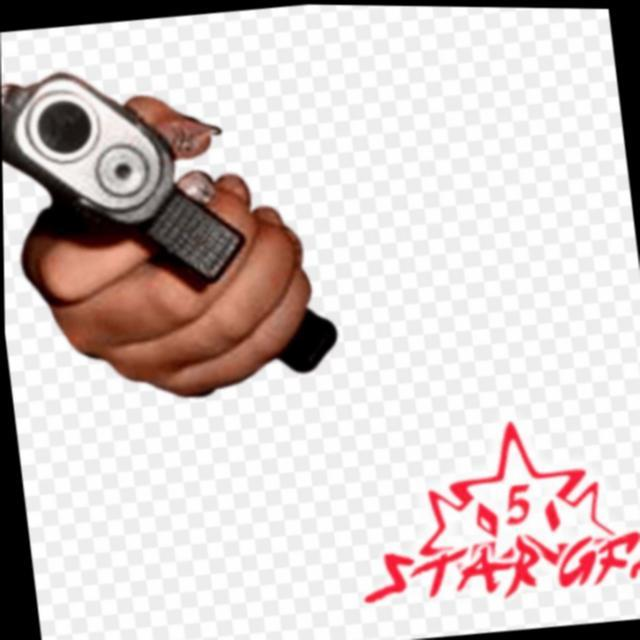weapon: (1, 30, 350, 417)
